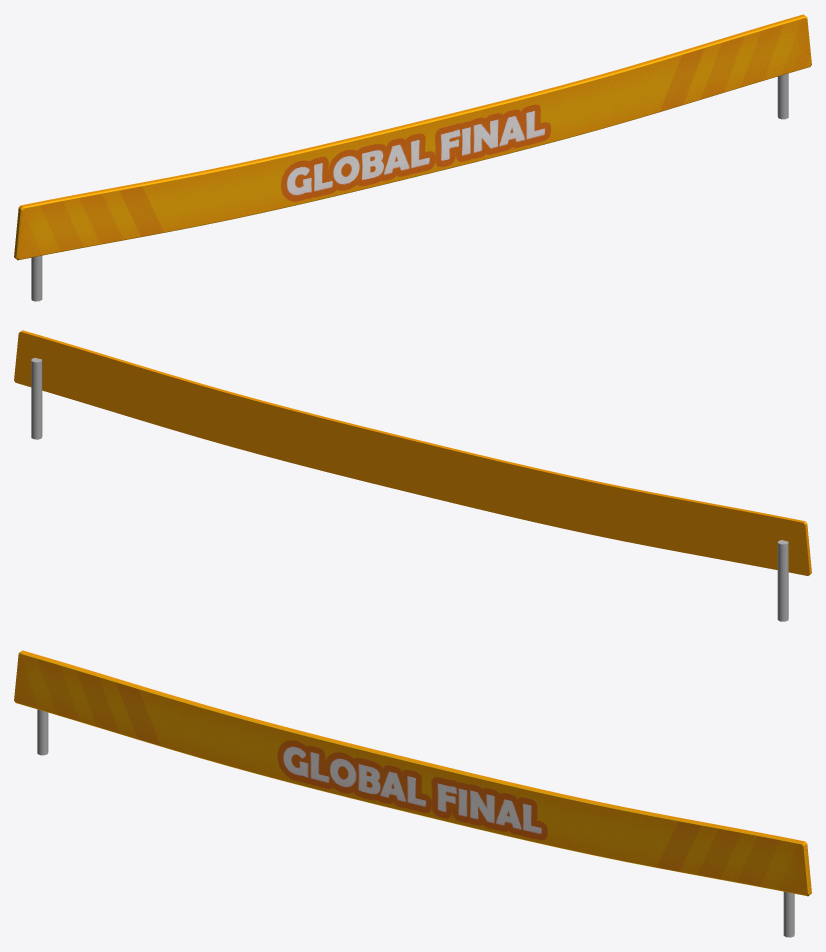
File: billboards_OnColumn_1_B.fbx
The picture shows the model from 3 angles, top to bottom: view 1: azimuth 30°, elevation 25°; view 2: azimuth 150°, elevation 25°; view 3: azimuth 330°, elevation 25°; orthographic projection.
Parts seen in each view (by area): view 1: billboards_OnColumn_1_B; view 2: billboards_OnColumn_1_B; view 3: billboards_OnColumn_1_B.
Part boxes in pixels (<box>): billboards_OnColumn_1_B: <box>14,14,811,301</box>; billboards_OnColumn_1_B: <box>14,330,811,621</box>; billboards_OnColumn_1_B: <box>14,650,811,937</box>.
Size of the model in its own units: 986 by 118 by 16.21.
